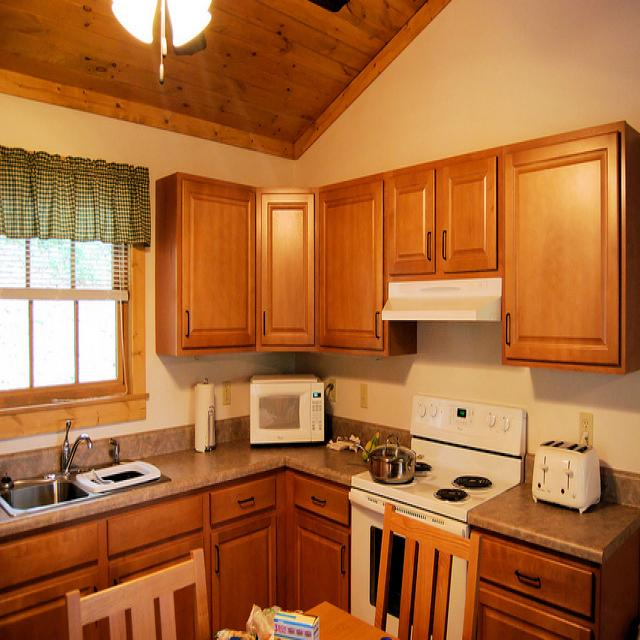chair: (374, 503, 481, 640), (66, 548, 211, 640)
dining table: (214, 597, 386, 633)
